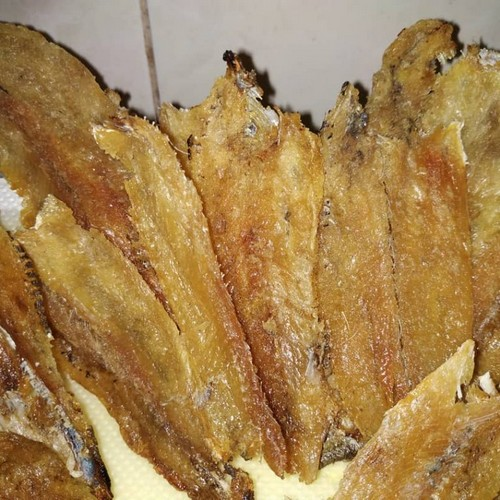sudang lepet: (13, 57, 286, 468), (175, 51, 426, 456)
